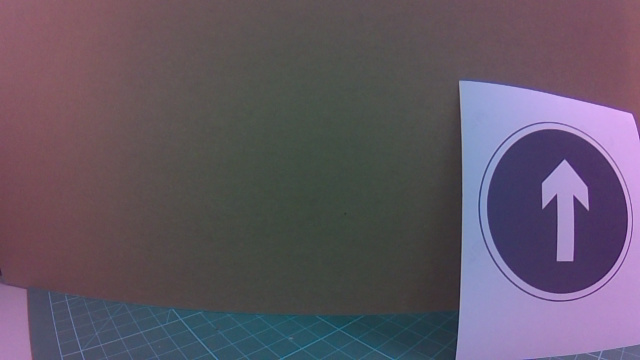forward: (456, 114, 639, 320)
